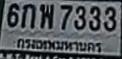3: (104, 6, 116, 31), (89, 6, 101, 31), (74, 6, 86, 30)
6: (7, 3, 19, 27)
7: (60, 4, 72, 29)
A01: (21, 4, 36, 28)
A30: (39, 4, 54, 29)
BKK: (14, 36, 104, 55)
